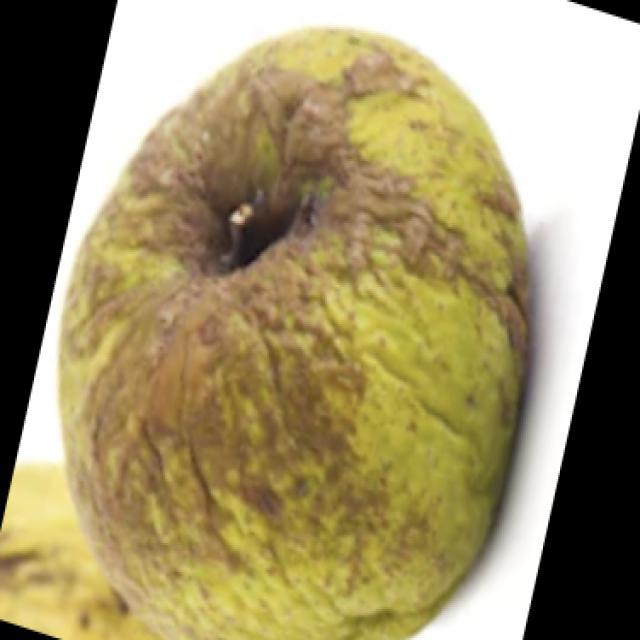Rotten: (52, 40, 535, 640)
